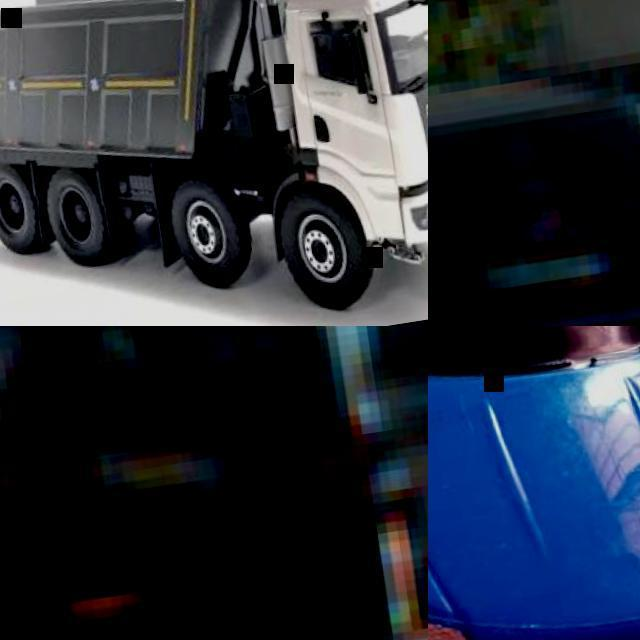car: (63, 0, 430, 300)
